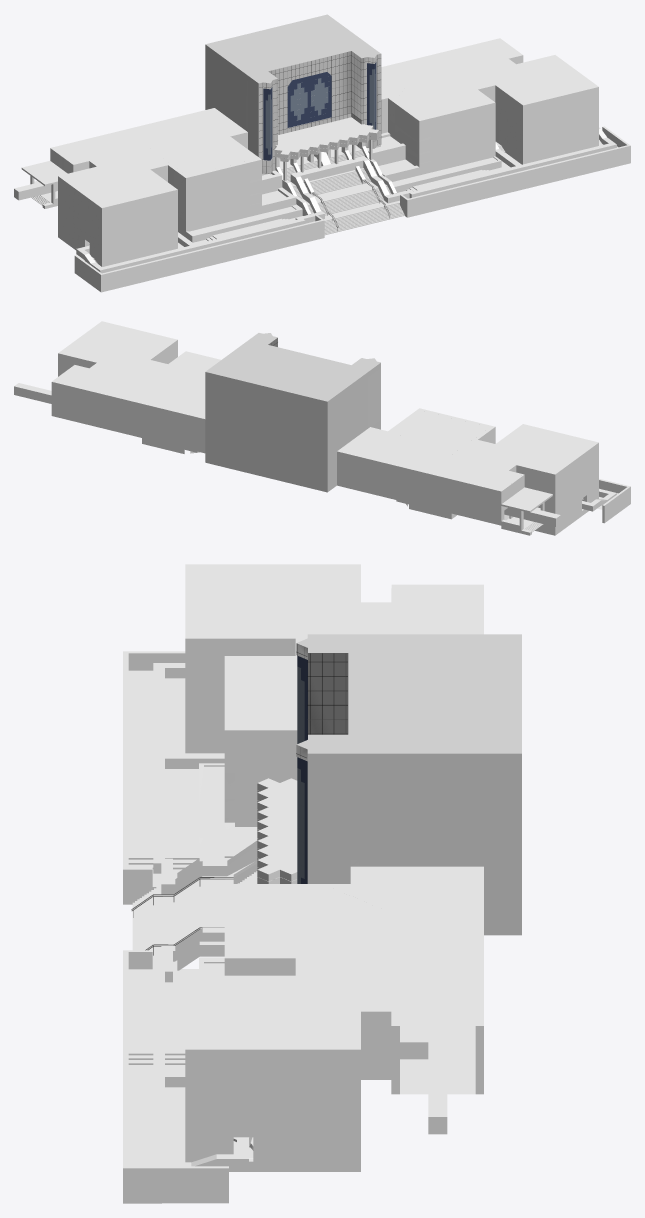
Rendered from ntic_mesh.glb.
3 views of the same model, one above another, from view 1: azimuth 30°, elevation 25°; view 2: azimuth 150°, elevation 25°; view 3: azimuth 270°, elevation 25° (orthographic). The views are drawn at different scales.
Parts seen in each view (by area): view 1: center, 7arf_right, 7arf_left, amphi_01, amphi_04, center_roof, amphi_03, amphi_02, center_keep, main_entrance_floor, left_roof, right_roof (+14 smaller); view 2: center, left, center_roof, right, left_roof, amphi_01, right_roof, amphi_04_roof, amphi_01_roof, amphi_02_roof, amphi_03_roof, amphi_04 (+7 smaller); view 3: center_roof, center, amphi_04, right_roof, 7arf_left, 7arf_right, amphi_04_roof, amphi_01_roof, amphi_03_roof, amphi_01, right, amphi_02 (+14 smaller).
Part boxes in pixels (<box>): center: <box>205,14,380,173</box>; 7arf_right: <box>356,126,630,217</box>; 7arf_left: <box>74,170,324,292</box>; amphi_01: <box>58,165,177,266</box>; amphi_04: <box>498,55,598,164</box>; center_roof: <box>208,15,379,122</box>; amphi_03: <box>395,70,495,175</box>; amphi_02: <box>142,135,261,237</box>; center_keep: <box>259,51,381,173</box>; main_entrance_floor: <box>279,144,404,235</box>; left_roof: <box>54,109,235,170</box>; right_roof: <box>381,40,520,100</box>; center: <box>205,333,380,492</box>; left: <box>337,426,522,525</box>; center_roof: <box>208,333,378,449</box>; right: <box>51,357,205,453</box>; left_roof: <box>339,429,520,489</box>; amphi_01: <box>499,424,598,535</box>; right_roof: <box>54,358,205,416</box>; amphi_04_roof: <box>64,323,171,363</box>; amphi_01_roof: <box>500,426,592,471</box>; amphi_02_roof: <box>397,410,489,506</box>; amphi_03_roof: <box>148,353,218,453</box>; amphi_04: <box>58,321,177,376</box>; center_roof: <box>300,634,517,866</box>; center: <box>296,634,521,935</box>; amphi_04: <box>185,975,360,1171</box>; right_roof: <box>293,866,475,1025</box>; 7arf_left: <box>123,651,257,904</box>; 7arf_right: <box>123,950,228,1203</box>; amphi_04_roof: <box>194,979,360,1046</box>; amphi_01_roof: <box>194,568,360,635</box>; amphi_03_roof: <box>233,887,391,954</box>; amphi_01: <box>185,564,360,753</box>; right: <box>284,866,483,1094</box>; amphi_02: <box>224,656,297,826</box>.
Bounding box in the file's own units: 77.94 × 17.25 × 24.82.
Materials: 34 (1 with a texture image).
